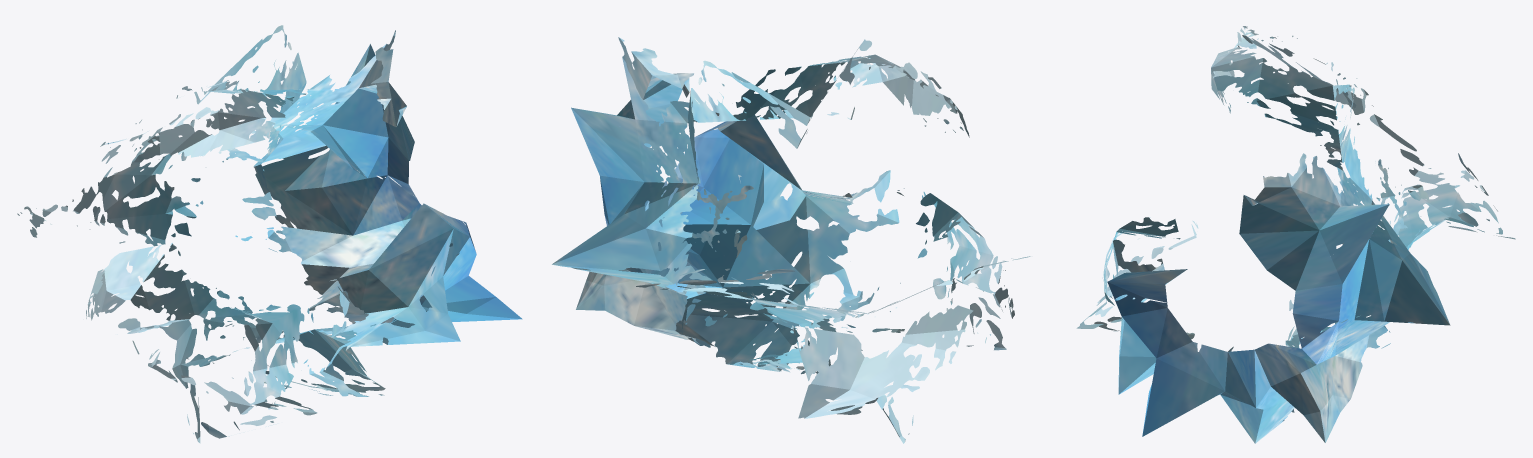
File: wolverine_rtforearm_ice.glb
3 views of the same model, side by side, from view 1: azimuth 30°, elevation 25°; view 2: azimuth 150°, elevation 25°; view 3: azimuth 270°, elevation 25° (orthographic). The views are drawn at different scales.
Visible parts, largest first — view 1: wolverine_rtforearm_ice_0; view 2: wolverine_rtforearm_ice_0; view 3: wolverine_rtforearm_ice_0.
Part boxes in pixels (box(x1,y1,x2,y2)): wolverine_rtforearm_ice_0: box(17, 25, 522, 443); wolverine_rtforearm_ice_0: box(552, 37, 1030, 443); wolverine_rtforearm_ice_0: box(1076, 26, 1515, 443).
Size of the model in its own units: 13.29 by 11.15 by 11.25.
1 material, 1 textured.
